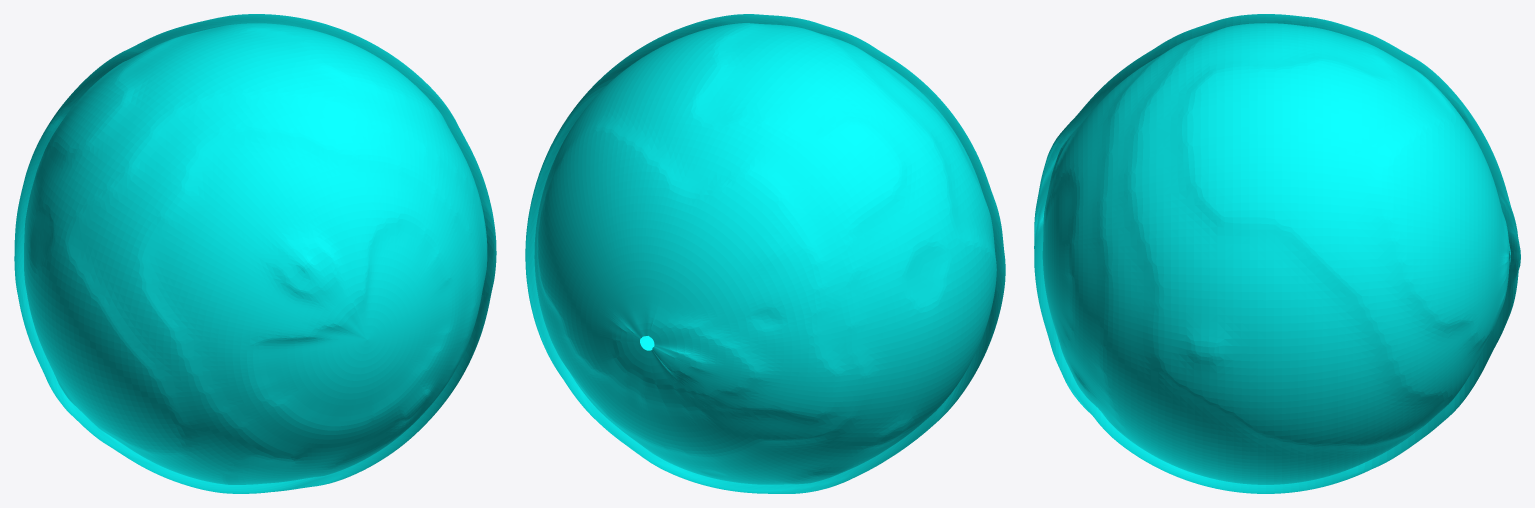
The picture shows the model from 3 angles, left to right: view 1: azimuth 30°, elevation 25°; view 2: azimuth 150°, elevation 25°; view 3: azimuth 270°, elevation 25°; orthographic projection.
Parts seen in each view (by area): view 1: Renderer Node; view 2: Renderer Node; view 3: Renderer Node.
Part boxes in pixels (x1,y1,x2,y2): Renderer Node: (14, 14, 496, 493); Renderer Node: (525, 14, 1005, 493); Renderer Node: (1034, 14, 1520, 493).
Bounding box in the file's own units: 1.67e+16 × 1.66e+16 × 1.68e+16.
